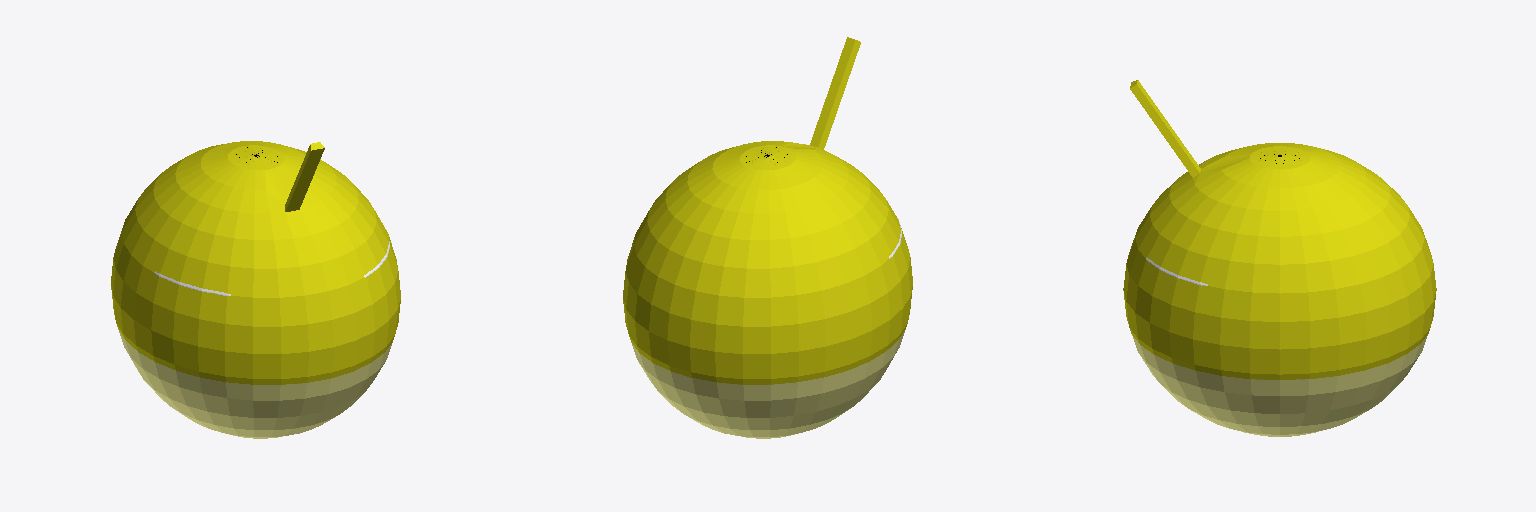
3 renders of one model, left to right at view 1: azimuth 30°, elevation 25°; view 2: azimuth 150°, elevation 25°; view 3: azimuth 270°, elevation 25°, orthographic.
Visible parts, largest first — view 1: 球; view 2: 球; view 3: 球.
Boxes of the visible parts, x1=… form: 球: x1=111, y1=141, x2=400, y2=438; 球: x1=623, y1=37, x2=912, y2=438; 球: x1=1123, y1=80, x2=1436, y2=436.
Size of the model in its own units: 1.03 by 1.36 by 1.14.
Materials: 1 (1 with a texture image).